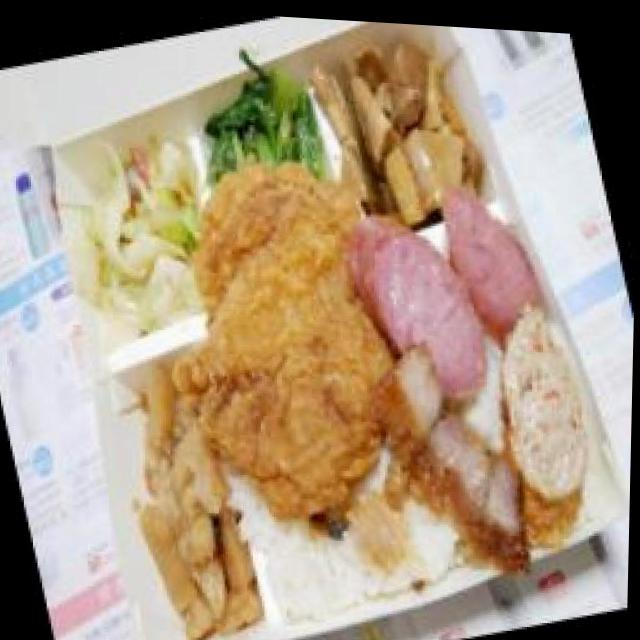chinese_cabbage: (64, 125, 221, 330)
chinese_sausage: (344, 176, 555, 364)
fried_chicken: (136, 130, 436, 558)
